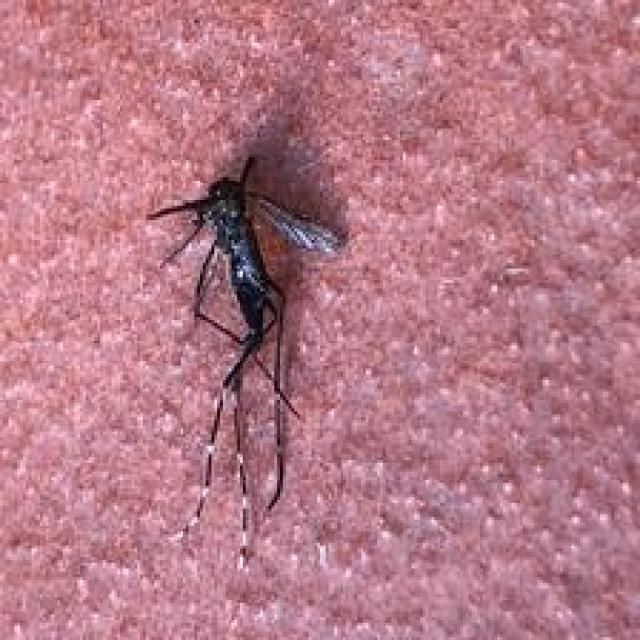Aedes albopictus: (144, 153, 344, 570)
